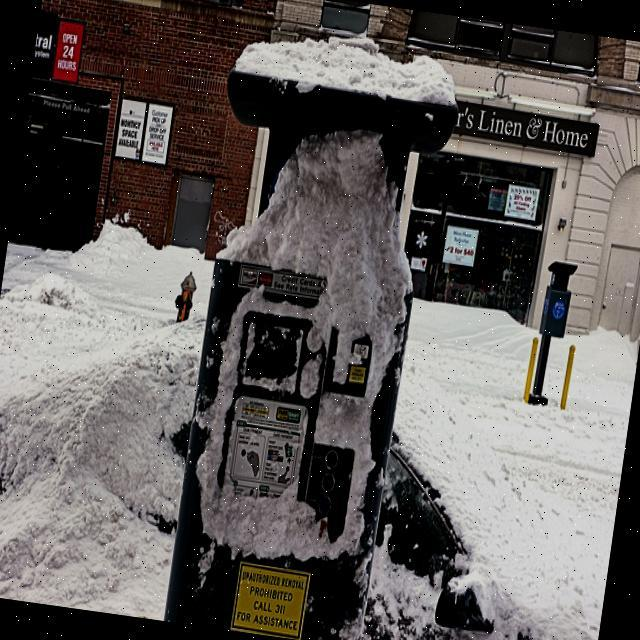fire_hydrant: (172, 270, 198, 322)
